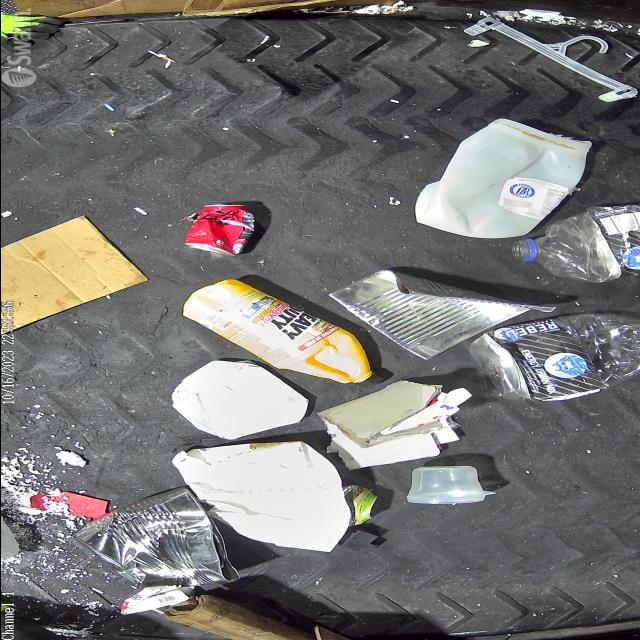can: (74, 491, 244, 596), (182, 204, 254, 256), (344, 484, 376, 522)
milk_jug: (414, 118, 592, 239)
non_white_jug: (178, 282, 382, 388)
plastic_bottle: (465, 312, 640, 401), (510, 203, 640, 282)
